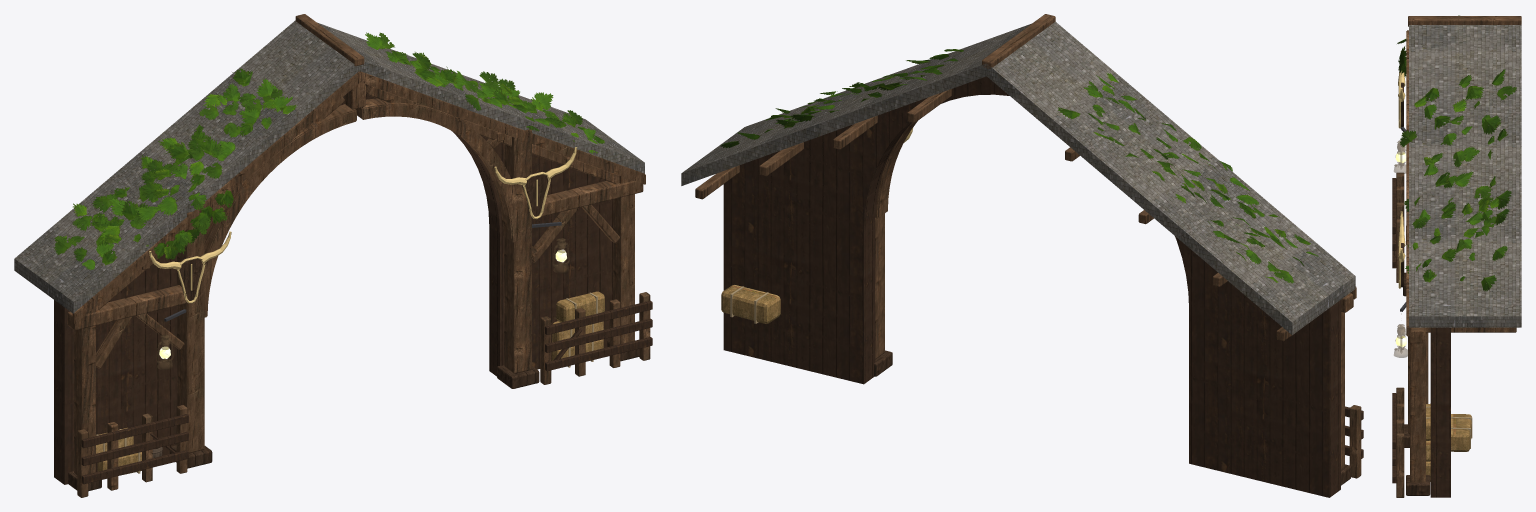
Rendered from fachada_10.glb.
3 renders of one model, left to right at view 1: azimuth 30°, elevation 25°; view 2: azimuth 150°, elevation 25°; view 3: azimuth 270°, elevation 25°, orthographic. The views are drawn at different scales.
Visible parts, largest first — view 1: F10; view 2: F10; view 3: F10.
Part boxes in pixels (<box>): F10: <box>14,14,652,497</box>; F10: <box>681,14,1363,497</box>; F10: <box>1392,15,1521,497</box>.
Size of the model in its own units: 12.4 by 7.61 by 2.56.
12 materials, 8 textured.
